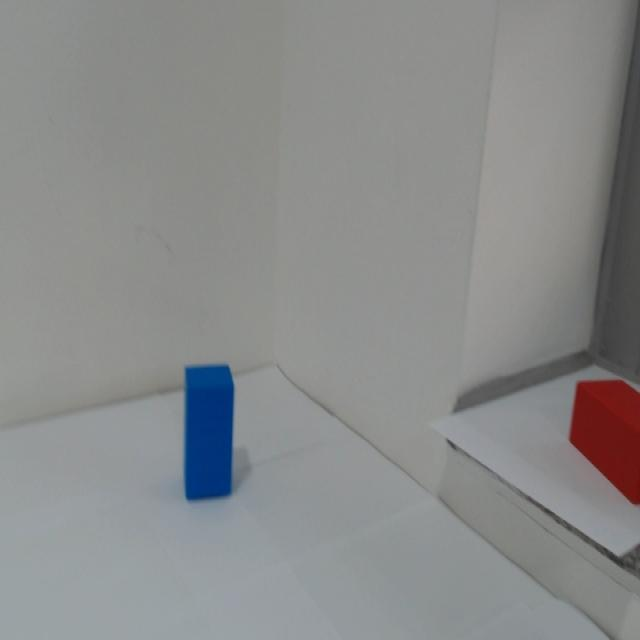cube: (179, 366, 243, 502)
